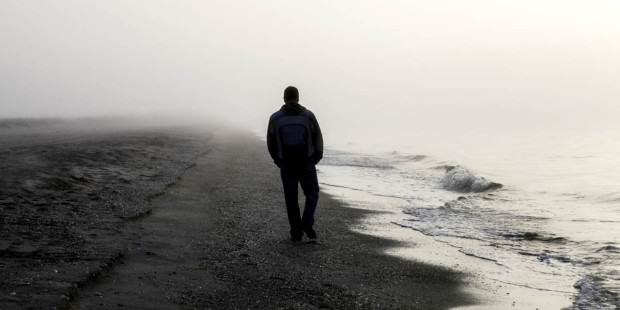Humano: (260, 80, 347, 249)
